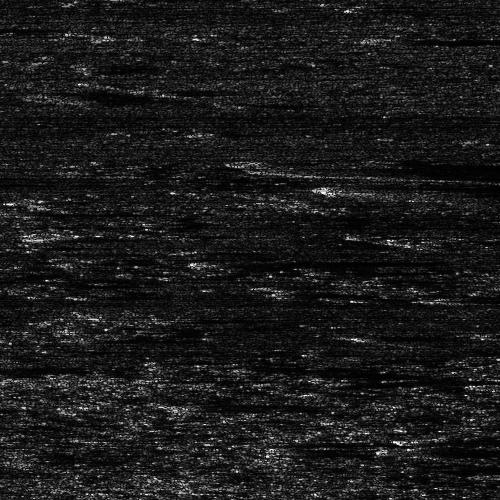rock: (203, 159, 390, 182), (251, 178, 408, 197), (132, 254, 267, 269), (380, 434, 495, 443), (27, 90, 90, 103), (374, 446, 447, 457), (396, 290, 459, 301), (347, 35, 420, 44), (0, 207, 67, 216), (151, 399, 204, 408), (451, 380, 500, 389), (146, 86, 199, 91), (342, 333, 383, 338), (38, 234, 79, 239), (461, 474, 500, 479), (238, 497, 301, 500)
shadow: (297, 159, 500, 182), (330, 178, 498, 197), (200, 254, 392, 269), (59, 90, 164, 103), (21, 207, 164, 216), (384, 35, 500, 44), (178, 399, 294, 408), (411, 446, 497, 457), (428, 290, 500, 301), (363, 333, 488, 338), (438, 434, 500, 443), (59, 234, 167, 239), (0, 364, 43, 373), (270, 497, 396, 500), (173, 86, 246, 91)
